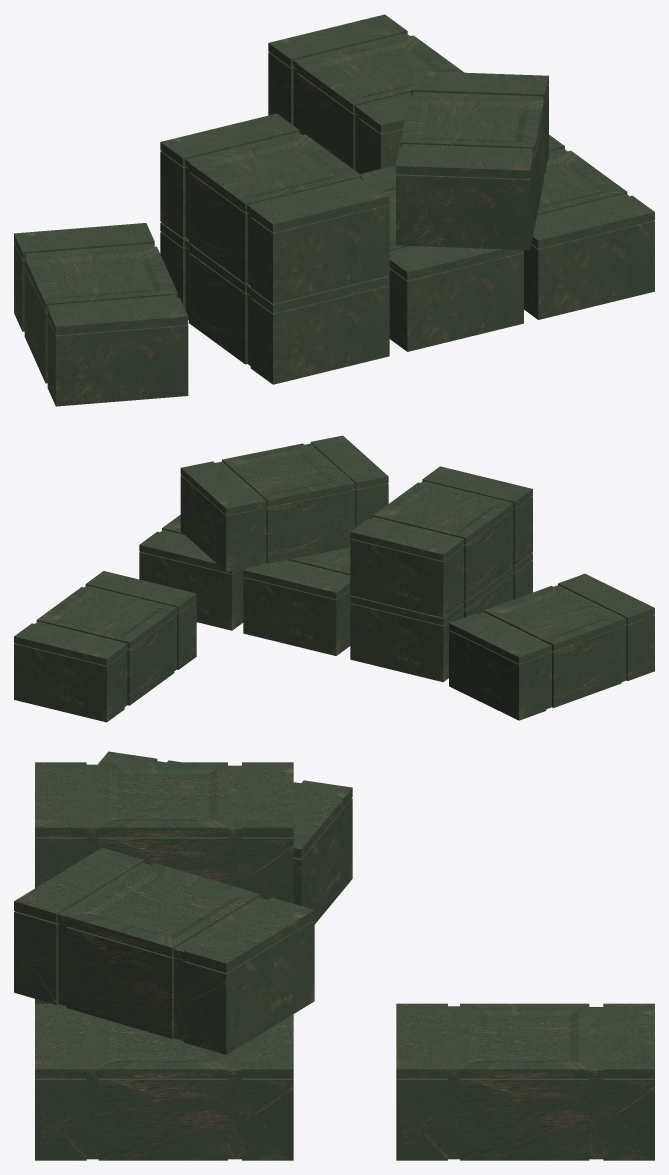
Rendered from minimal_storage.glb.
The picture shows the model from 3 angles, top to bottom: view 1: azimuth 30°, elevation 25°; view 2: azimuth 150°, elevation 25°; view 3: azimuth 270°, elevation 25°; orthographic projection. The views are drawn at different scales.
Visible parts, largest first — view 1: Cube.003, Cube.006, Cube.004, Cube.005, Cube.002, Cube, Cube.001; view 2: Cube.006, Cube.004, Cube.005, Cube.003, Cube.001, Cube.002, Cube; view 3: Cube.004, Cube.005, Cube, Cube.003, Cube.006.
Boxes of the visible parts, x1,y1,x2,y2 form: Cube.003: [160, 113, 389, 303]; Cube.006: [14, 223, 188, 406]; Cube.004: [396, 71, 548, 250]; Cube.005: [268, 14, 463, 173]; Cube.002: [160, 222, 389, 384]; Cube: [523, 135, 654, 319]; Cube.001: [360, 165, 523, 351]; Cube.006: [449, 573, 654, 720]; Cube.004: [180, 435, 388, 571]; Cube.005: [14, 571, 196, 722]; Cube.003: [350, 466, 532, 617]; Cube.001: [243, 546, 350, 655]; Cube.002: [350, 553, 532, 682]; Cube: [139, 515, 245, 630]; Cube.004: [14, 847, 314, 1054]; Cube.005: [396, 1003, 654, 1160]; Cube: [35, 1003, 293, 1160]; Cube.003: [35, 762, 293, 903]; Cube.006: [98, 751, 352, 924].
Size of the model in its own units: 1.56 by 0.4222 by 1.33.
7 materials, 7 textured.
